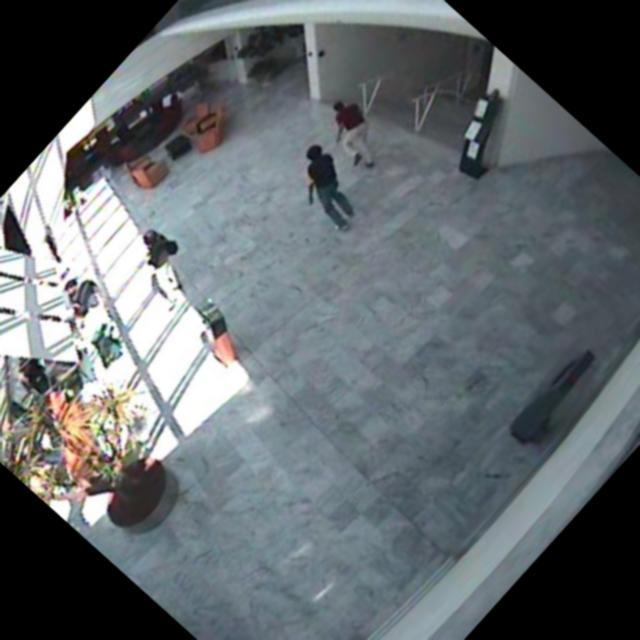person: (268, 130, 382, 242), (304, 88, 401, 182)
